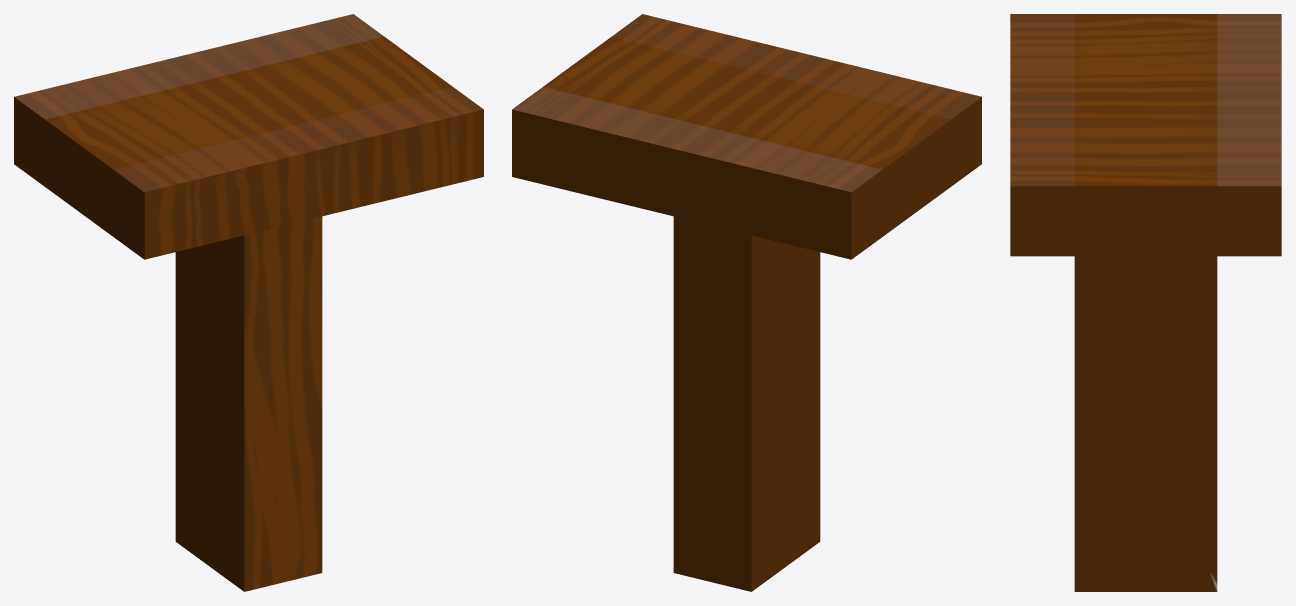
The model's file is Level1-3_Platform.fbx.
The picture shows the model from 3 angles, left to right: view 1: azimuth 30°, elevation 25°; view 2: azimuth 150°, elevation 25°; view 3: azimuth 270°, elevation 25°; orthographic projection. The views are drawn at different scales.
Parts seen in each view (by area): view 1: 2x3Platform1; view 2: 2x3Platform1; view 3: 2x3Platform1.
Part boxes in pixels (x1,y1,x2,y2): 2x3Platform1: (14, 14, 483, 591); 2x3Platform1: (512, 14, 981, 591); 2x3Platform1: (1010, 14, 1281, 591).
Size of the model in its own units: 809 by 1034 by 538.
